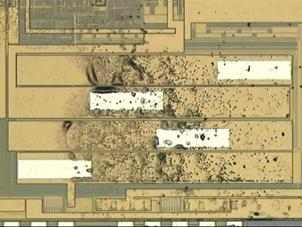PO CONTAMINATION: (1, 1, 302, 227)
